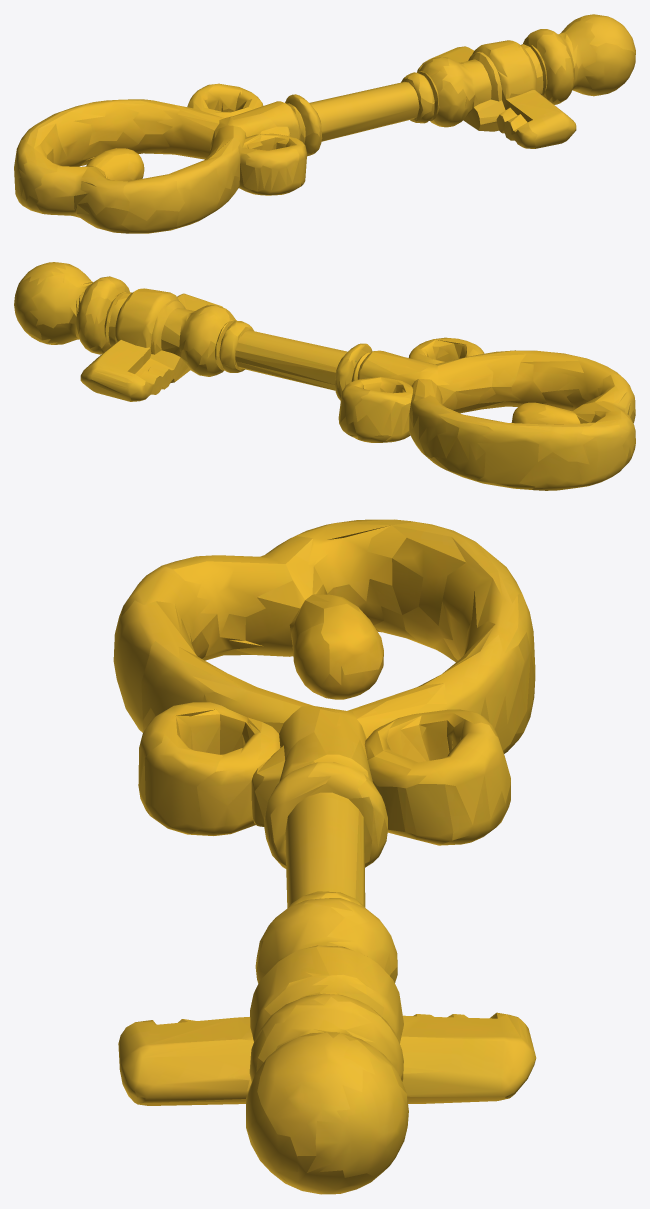
Rendered from golden_key.glb.
The picture shows the model from 3 angles, top to bottom: view 1: azimuth 30°, elevation 25°; view 2: azimuth 150°, elevation 25°; view 3: azimuth 270°, elevation 25°; orthographic projection. The views are drawn at different scales.
Bounding box in the file's own units: 1.9 × 0.2235 × 0.5778.
1 material, 1 textured.
